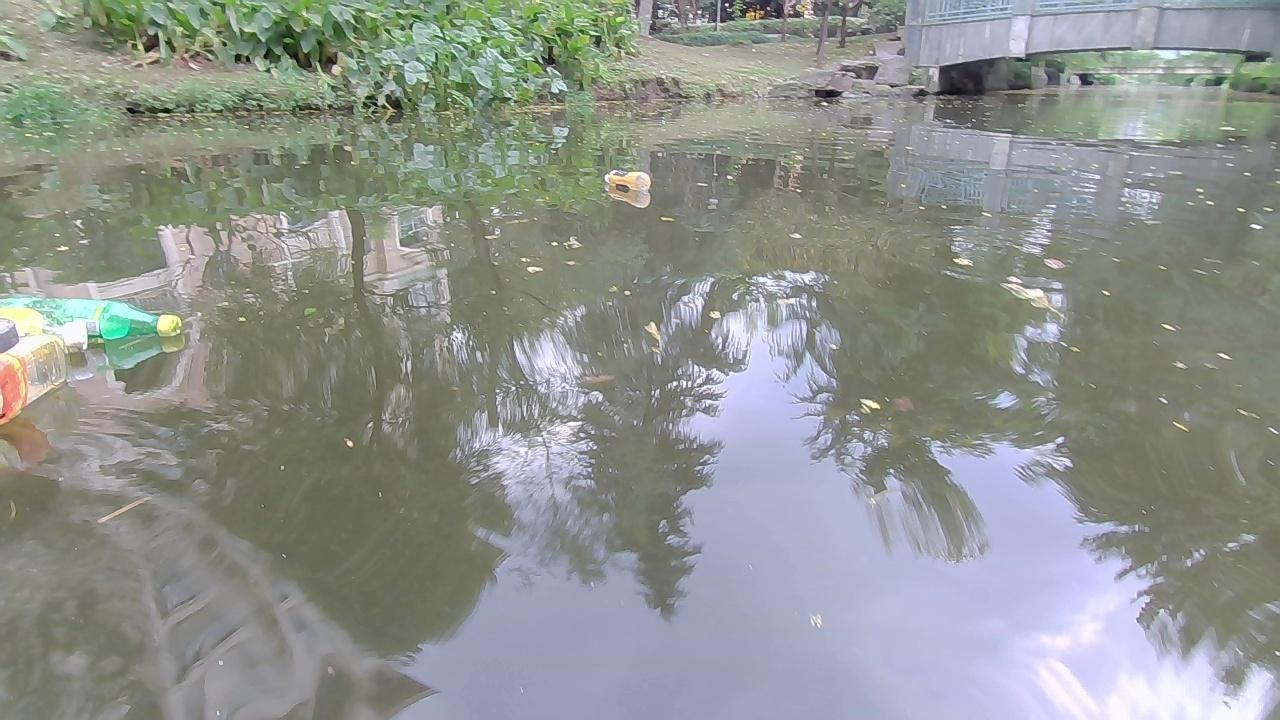bottle: (0, 293, 189, 345), (0, 339, 77, 411), (0, 303, 90, 352), (600, 165, 653, 189)
